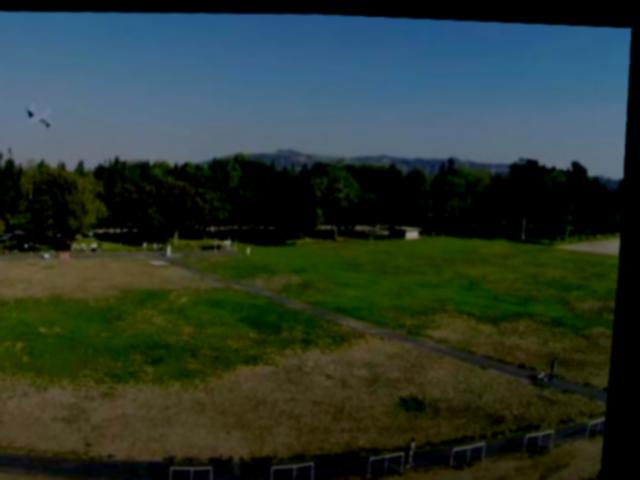iha: (26, 103, 55, 128)
